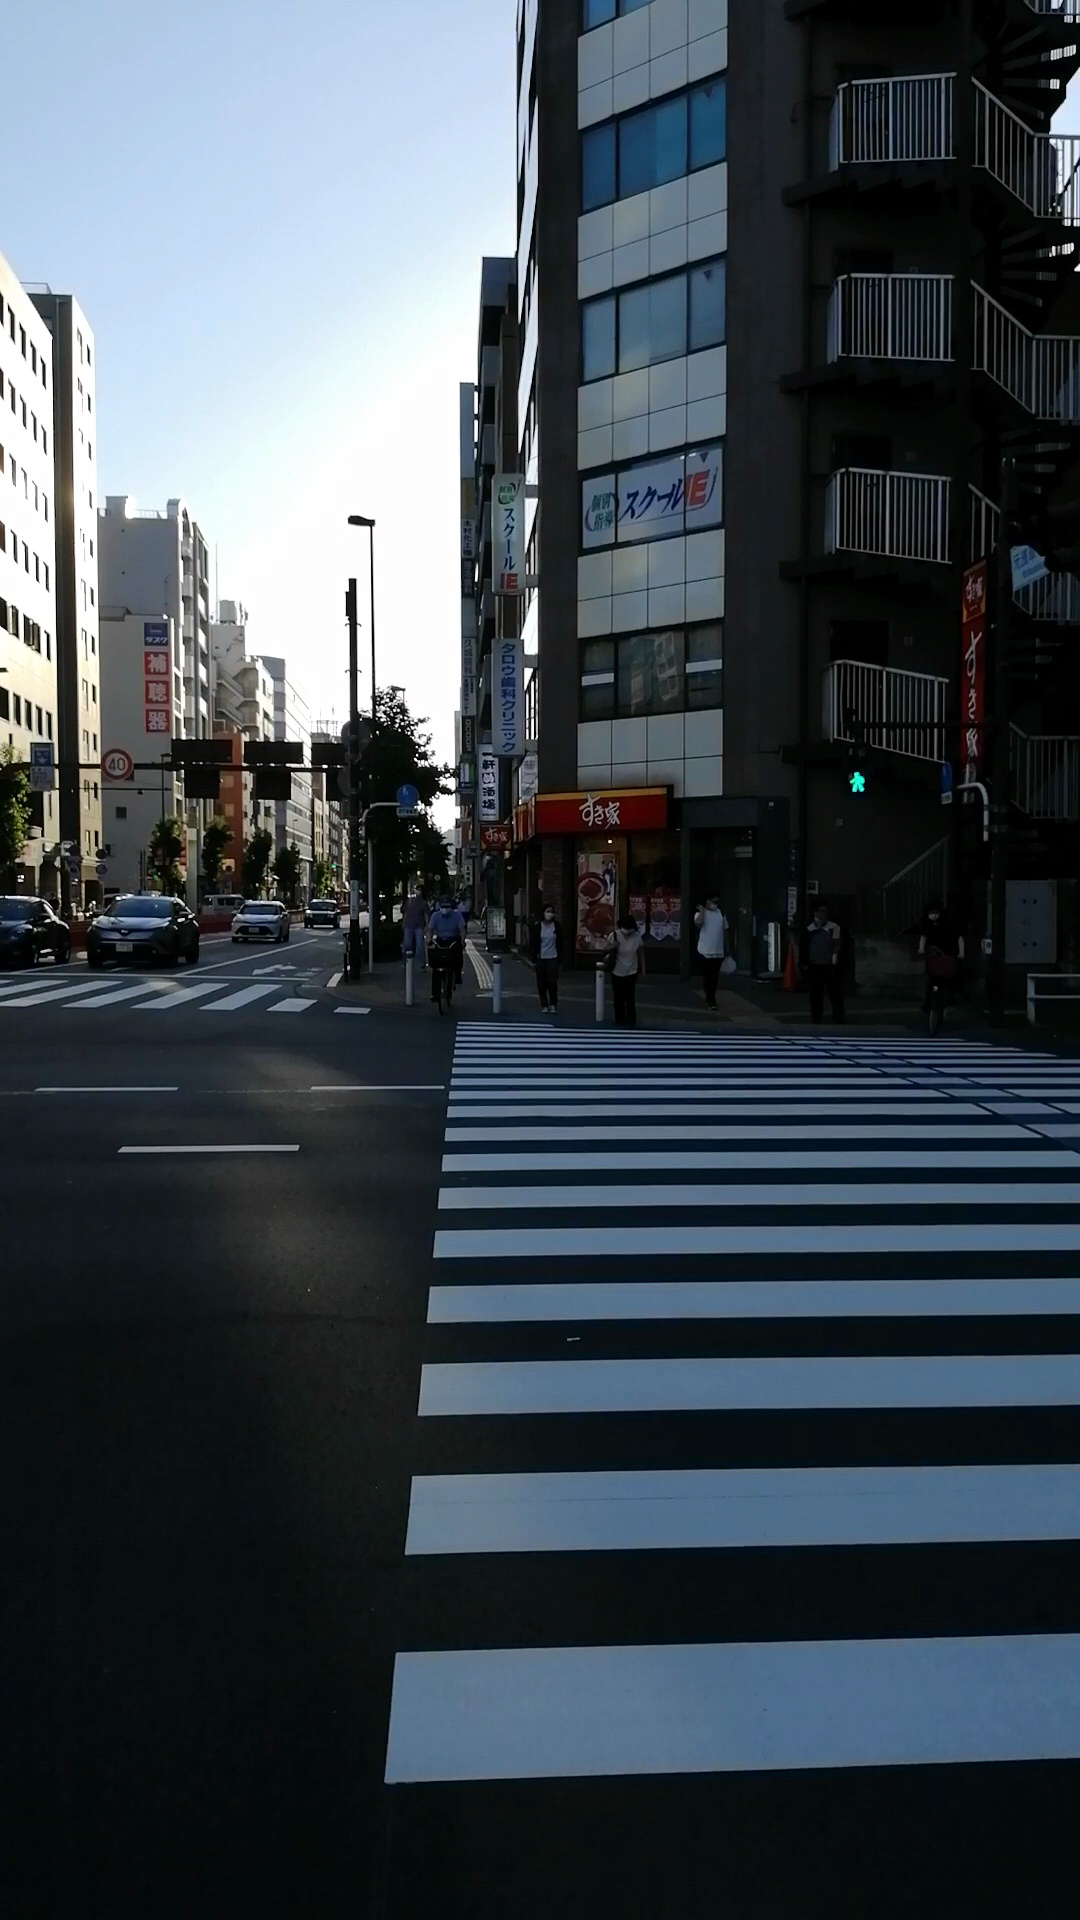green: (839, 742, 874, 804)
